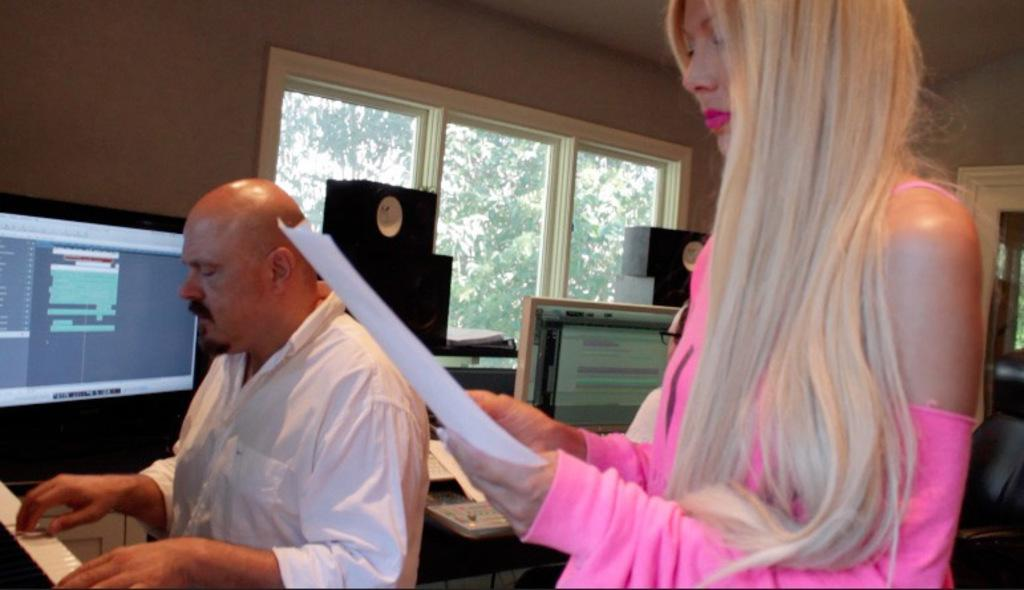Computer-monitor: (0, 187, 211, 446), (514, 295, 681, 435)
